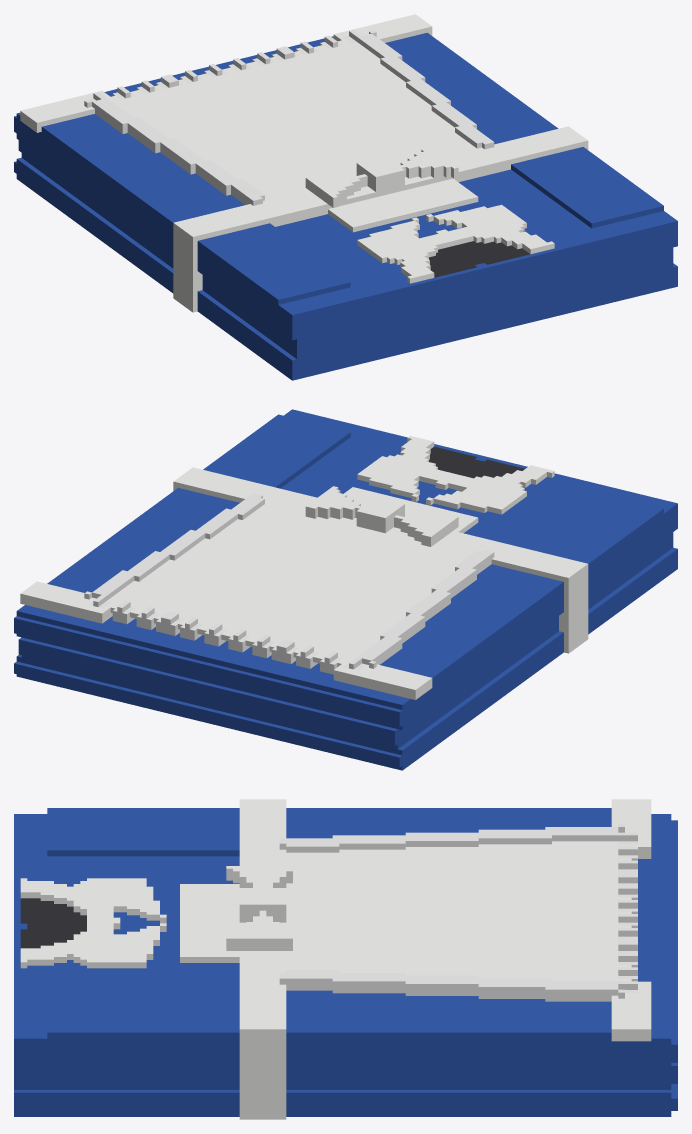
Rendered from maid_dress.glb.
The picture shows the model from 3 angles, top to bottom: view 1: azimuth 30°, elevation 25°; view 2: azimuth 150°, elevation 25°; view 3: azimuth 270°, elevation 25°; orthographic projection. The views are drawn at different scales.
Visible parts, largest first — view 1: maid_dress:compound; view 2: maid_dress:compound; view 3: maid_dress:compound.
Boxes of the visible parts, box(x1,y1,x2,y2) form: maid_dress:compound: box(14, 14, 677, 380); maid_dress:compound: box(14, 409, 677, 770); maid_dress:compound: box(14, 799, 677, 1119).
Size of the model in its own units: 0.328 by 0.072 by 0.4.
